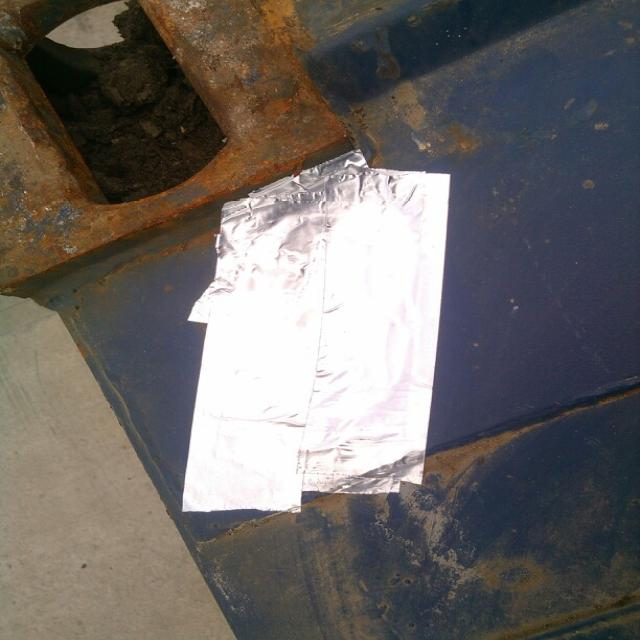rust: (145, 1, 359, 207)
